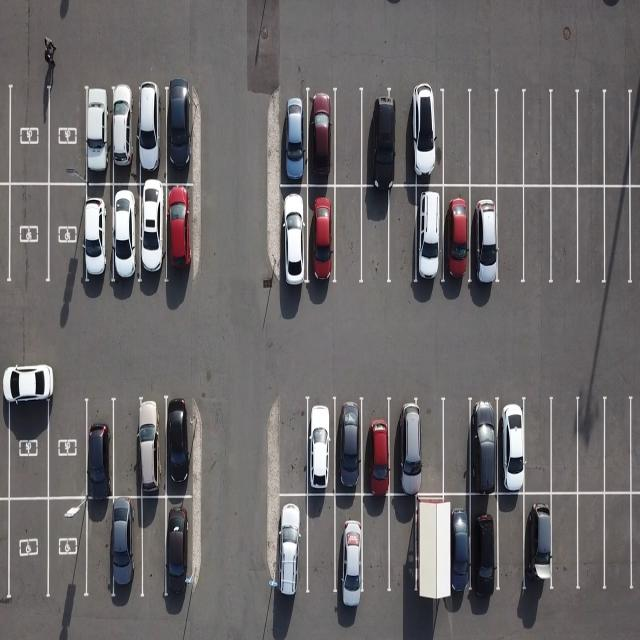space-empty: (5, 387, 48, 500), (48, 390, 90, 498), (5, 498, 47, 604), (47, 181, 88, 289), (6, 182, 47, 289), (111, 397, 151, 498), (48, 81, 88, 182), (9, 78, 47, 183), (306, 494, 340, 604), (493, 491, 528, 594), (571, 495, 607, 594), (358, 496, 392, 600), (547, 494, 582, 594), (603, 494, 638, 594), (522, 184, 556, 285), (384, 186, 419, 284), (82, 498, 115, 600), (548, 396, 582, 494), (357, 186, 391, 283), (413, 499, 443, 608), (574, 398, 607, 497), (494, 184, 526, 286), (574, 184, 606, 286), (274, 400, 308, 496), (334, 87, 367, 185), (549, 186, 581, 287), (384, 494, 416, 595), (438, 399, 472, 494), (334, 184, 366, 284), (606, 184, 636, 290), (138, 498, 168, 602), (524, 398, 556, 495), (523, 92, 556, 186), (574, 89, 606, 185), (438, 92, 470, 187), (604, 396, 635, 494), (468, 91, 500, 185), (548, 92, 580, 186), (604, 88, 635, 184), (493, 92, 524, 186), (416, 404, 446, 499), (391, 91, 417, 190)
space-occupied: (47, 495, 89, 598), (359, 87, 399, 186), (467, 495, 504, 602), (163, 183, 202, 284), (435, 497, 471, 605), (306, 185, 342, 288), (275, 493, 309, 602), (165, 496, 199, 604), (78, 182, 112, 288), (112, 498, 146, 602), (468, 183, 502, 287), (111, 182, 145, 286), (333, 494, 365, 603), (409, 92, 445, 188), (467, 398, 503, 494), (358, 398, 394, 494), (523, 491, 557, 591), (82, 396, 115, 498), (438, 184, 471, 286), (136, 184, 169, 286), (164, 397, 198, 496), (391, 399, 426, 495), (332, 398, 367, 493), (303, 400, 337, 497), (165, 87, 198, 185), (415, 185, 447, 286), (493, 399, 527, 494), (134, 397, 166, 497), (281, 183, 311, 289), (308, 89, 340, 188), (134, 85, 164, 184), (83, 87, 111, 185), (282, 90, 310, 187), (113, 84, 140, 180)
